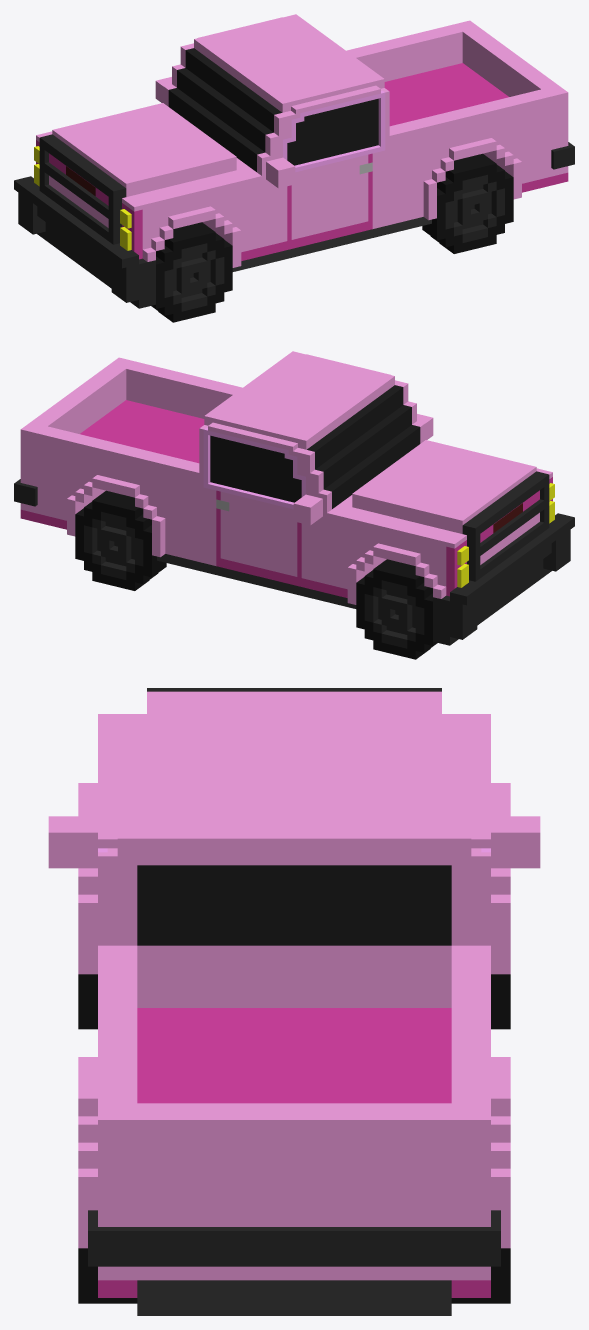
Rendered from car_red_len_3.glb.
3 views of the same model, one above another, from view 1: azimuth 30°, elevation 25°; view 2: azimuth 150°, elevation 25°; view 3: azimuth 270°, elevation 25° (orthographic). The views are drawn at different scales.
Parts seen in each view (by area): view 1: _0; view 2: _0; view 3: _0.
Boxes of the visible parts, x1=… form: _0: x1=14, y1=14, x2=574, y2=322; _0: x1=14, y1=351, x2=574, y2=659; _0: x1=48, y1=688, x2=540, y2=1315.
Bounding box in the file's own units: 0.1605 × 0.0615 × 0.075.
